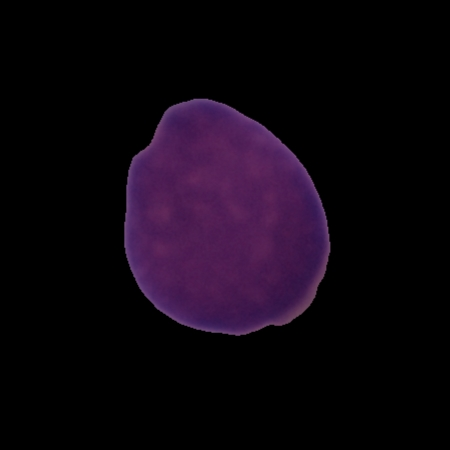HEM: (120, 94, 333, 338)
